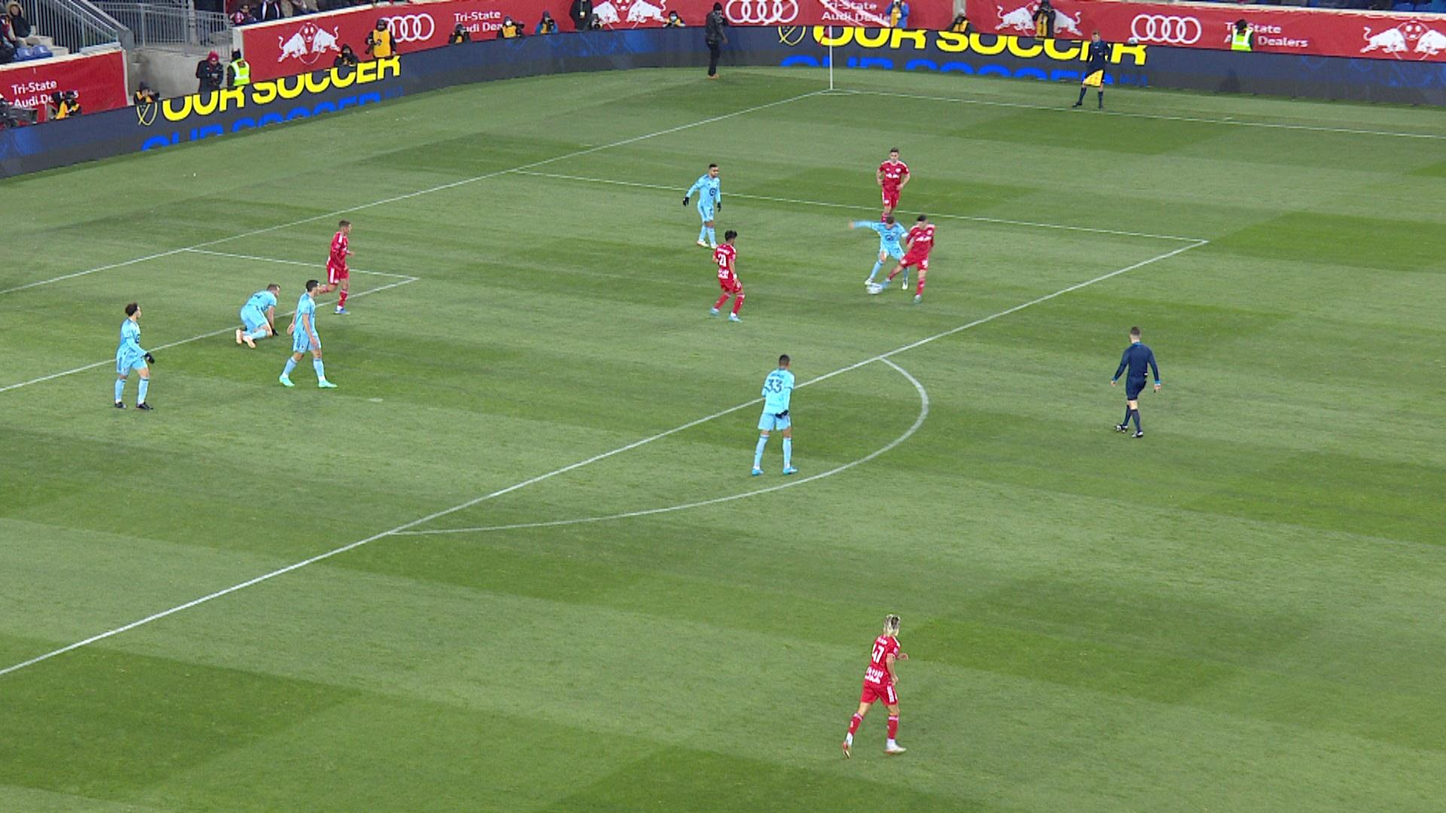Player: (843, 614, 908, 758), (279, 280, 337, 387), (752, 355, 797, 475), (882, 215, 935, 303), (115, 303, 155, 410), (848, 216, 909, 285), (319, 219, 354, 315), (683, 164, 721, 249), (710, 230, 745, 322), (236, 283, 280, 348), (876, 147, 910, 223), (902, 266, 909, 289), (877, 231, 881, 237), (305, 289, 307, 293)
ball: (867, 282, 881, 294)
referee: (1111, 326, 1160, 437), (1071, 30, 1111, 109)
